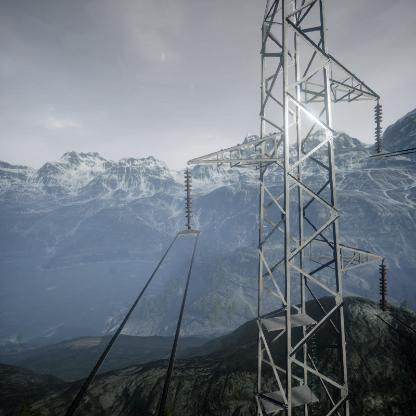insulator: (181, 167, 197, 230), (377, 261, 390, 310), (373, 103, 384, 152)
